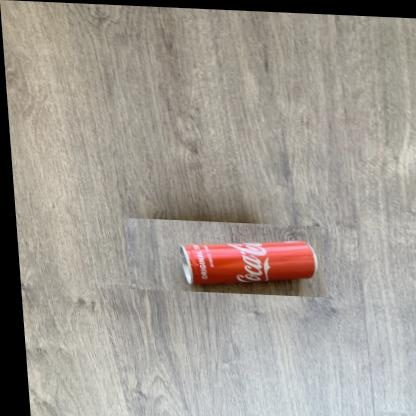trash: (178, 241, 316, 284)
